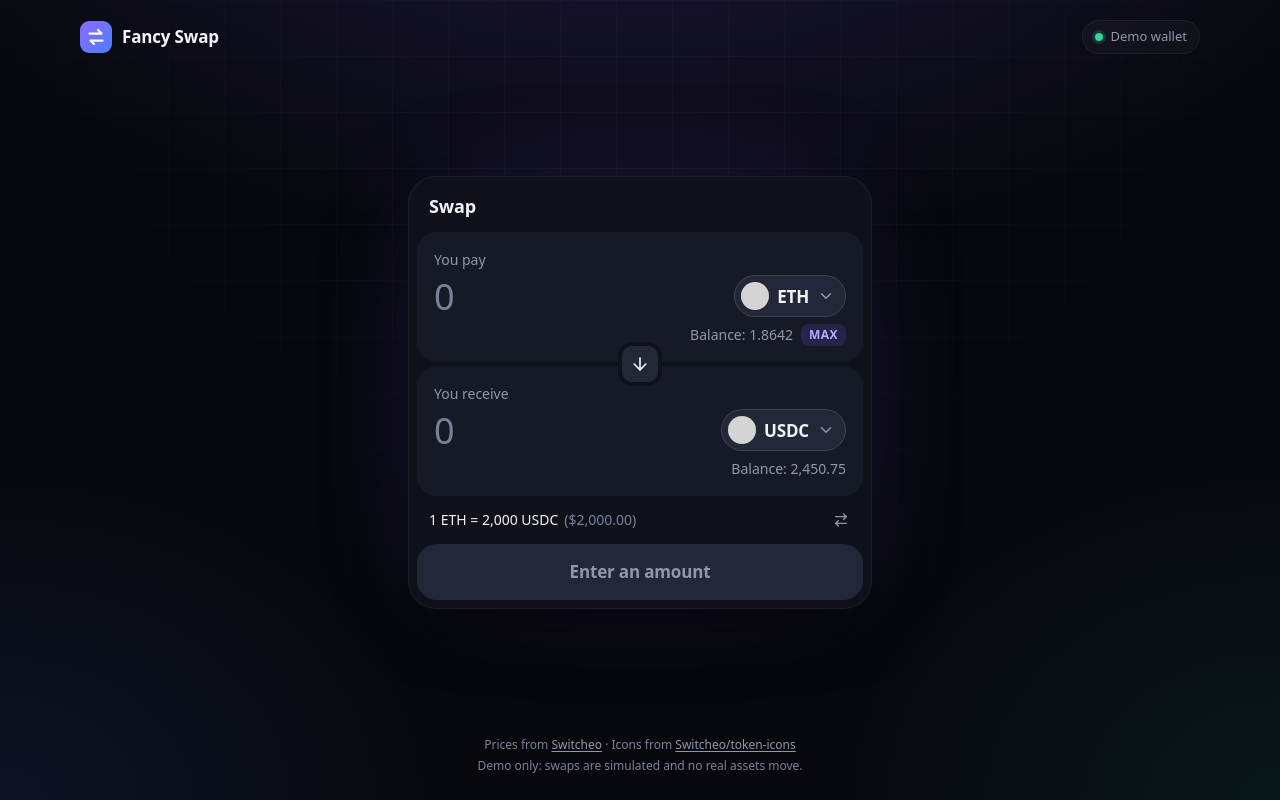
Test: swap form › keeps each amount with its token when the sides flip
Expected: the button with aria-label "ETH, change token to pay with" is shown, [734,275,846,317]
Type "0.5" into the field labelled "You pay".
click(578, 296); type("0.5")  # box [434,274,722,319]
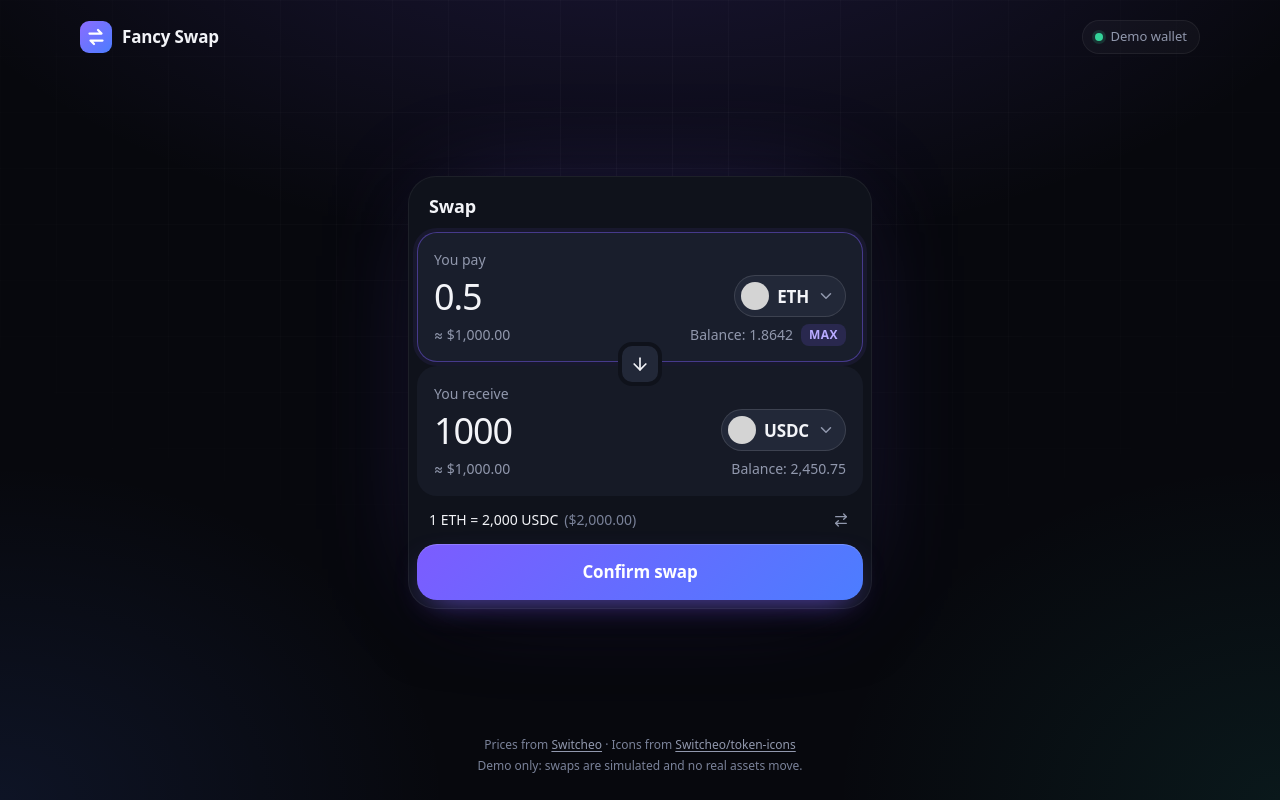
Click the button named "Switch tokens".
click(640, 364)  # box [618,342,662,386]
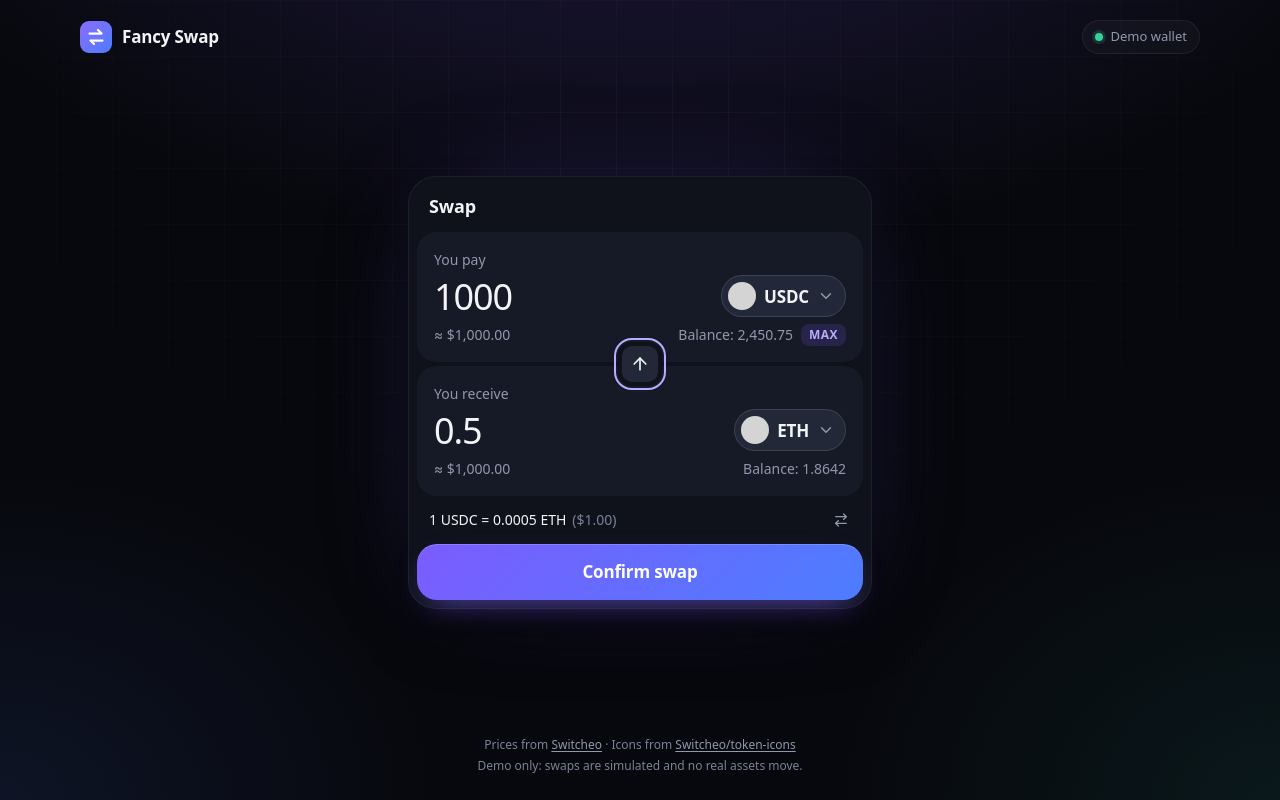
Expected: the field labelled "You receive" holds "0.5", [434,408,722,453]
Expected: the field labelled "You pay" holds "1000", [434,274,709,319]
